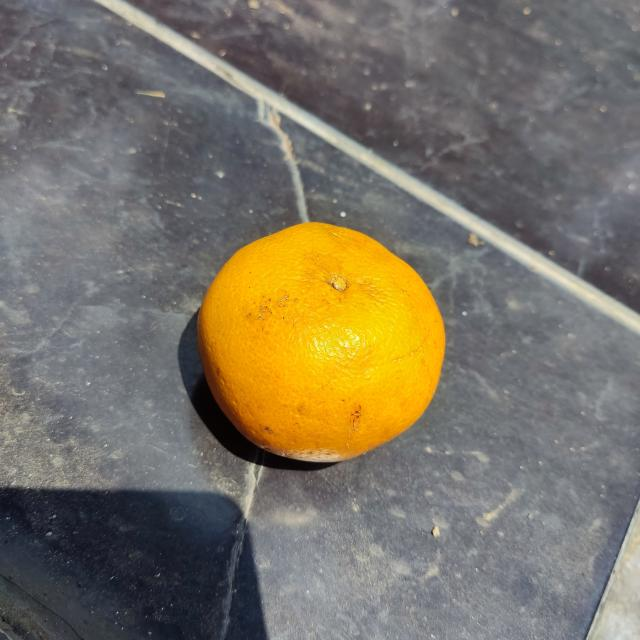orange: (194, 223, 445, 466)
